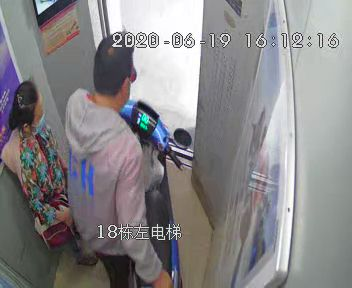Electric-bicycle: (115, 101, 192, 285)
